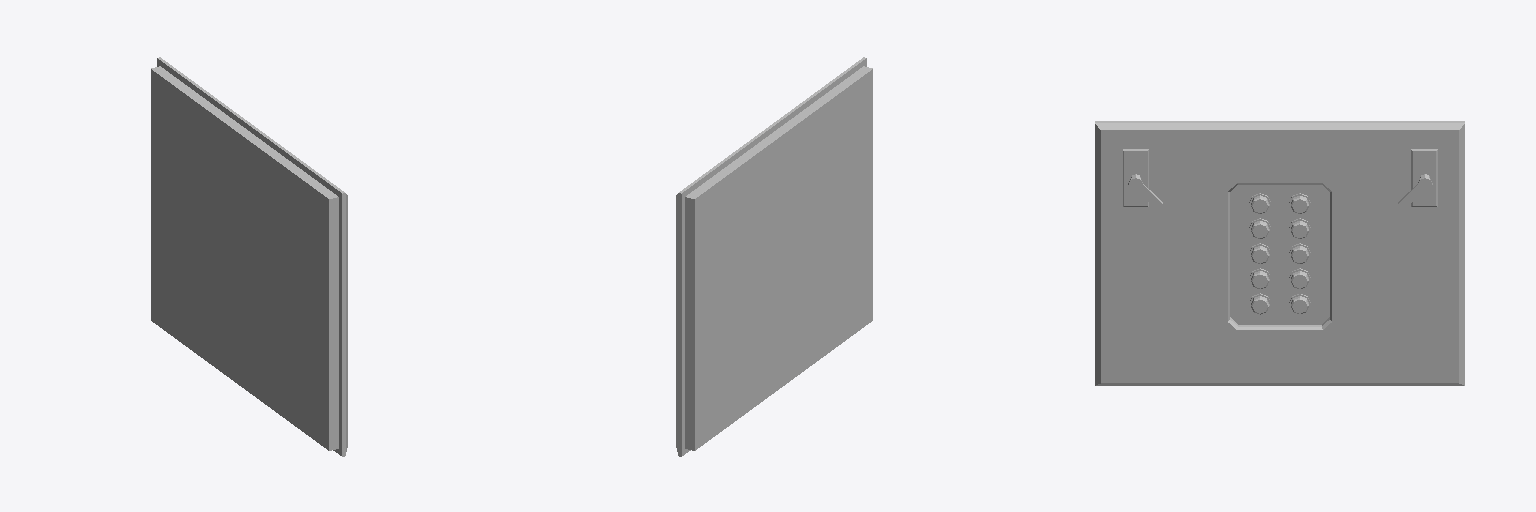
The model's file is am_safe_door.obj.
3 renders of one model, left to right at view 1: azimuth 30°, elevation 25°; view 2: azimuth 150°, elevation 25°; view 3: azimuth 270°, elevation 25°, orthographic.
Parts seen in each view (by area): view 1: am_safe_door; view 2: am_safe_door; view 3: am_safe_door.
Boxes of the visible parts, <box> form: am_safe_door: <box>151,57,347,456</box>; am_safe_door: <box>676,57,872,456</box>; am_safe_door: <box>1095,121,1464,385</box>.
Bounding box in the file's own units: 3.26 × 25.53 × 32.53.